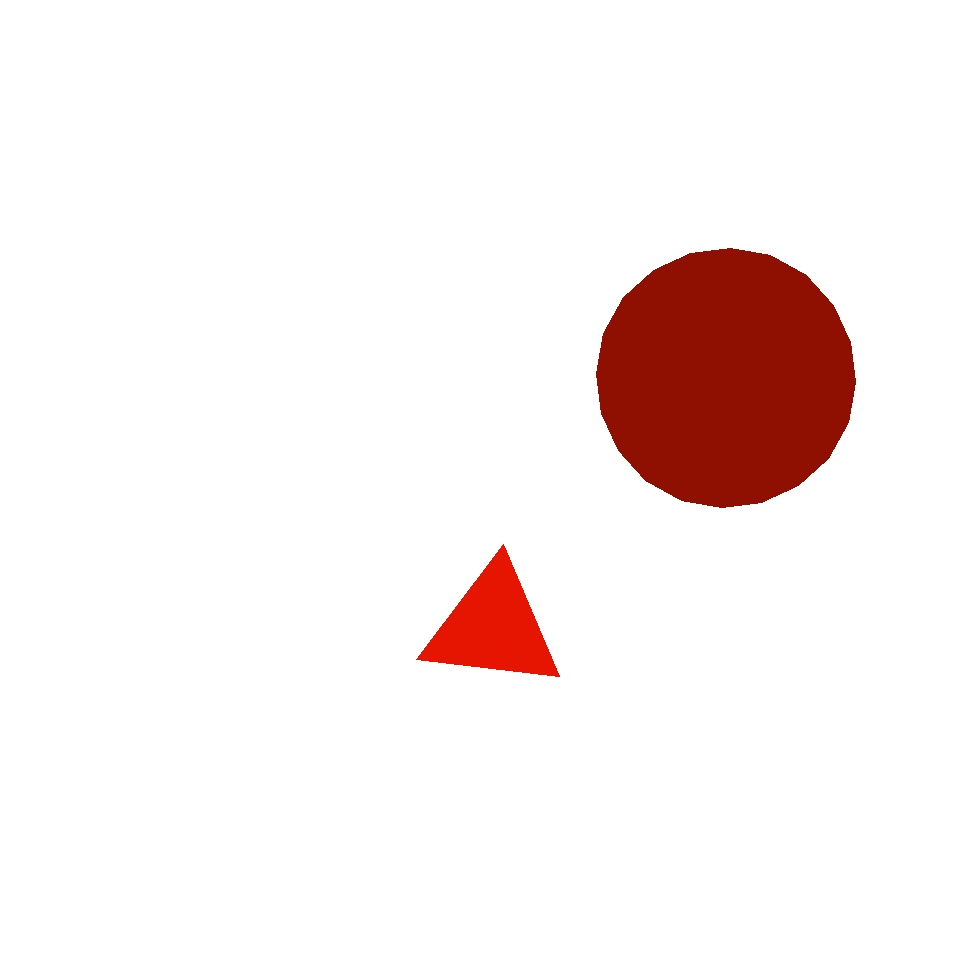circle: (36, 68, 302, 352), (422, 561, 564, 693)
square: (428, 552, 630, 754)
triangle: (255, 228, 560, 532), (596, 248, 856, 507)
